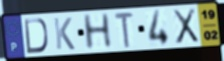4: (147, 9, 171, 48)
D: (23, 17, 50, 55)
H: (81, 12, 114, 52)
K: (52, 16, 77, 51)
T: (113, 11, 136, 49)
X: (171, 7, 200, 46)
